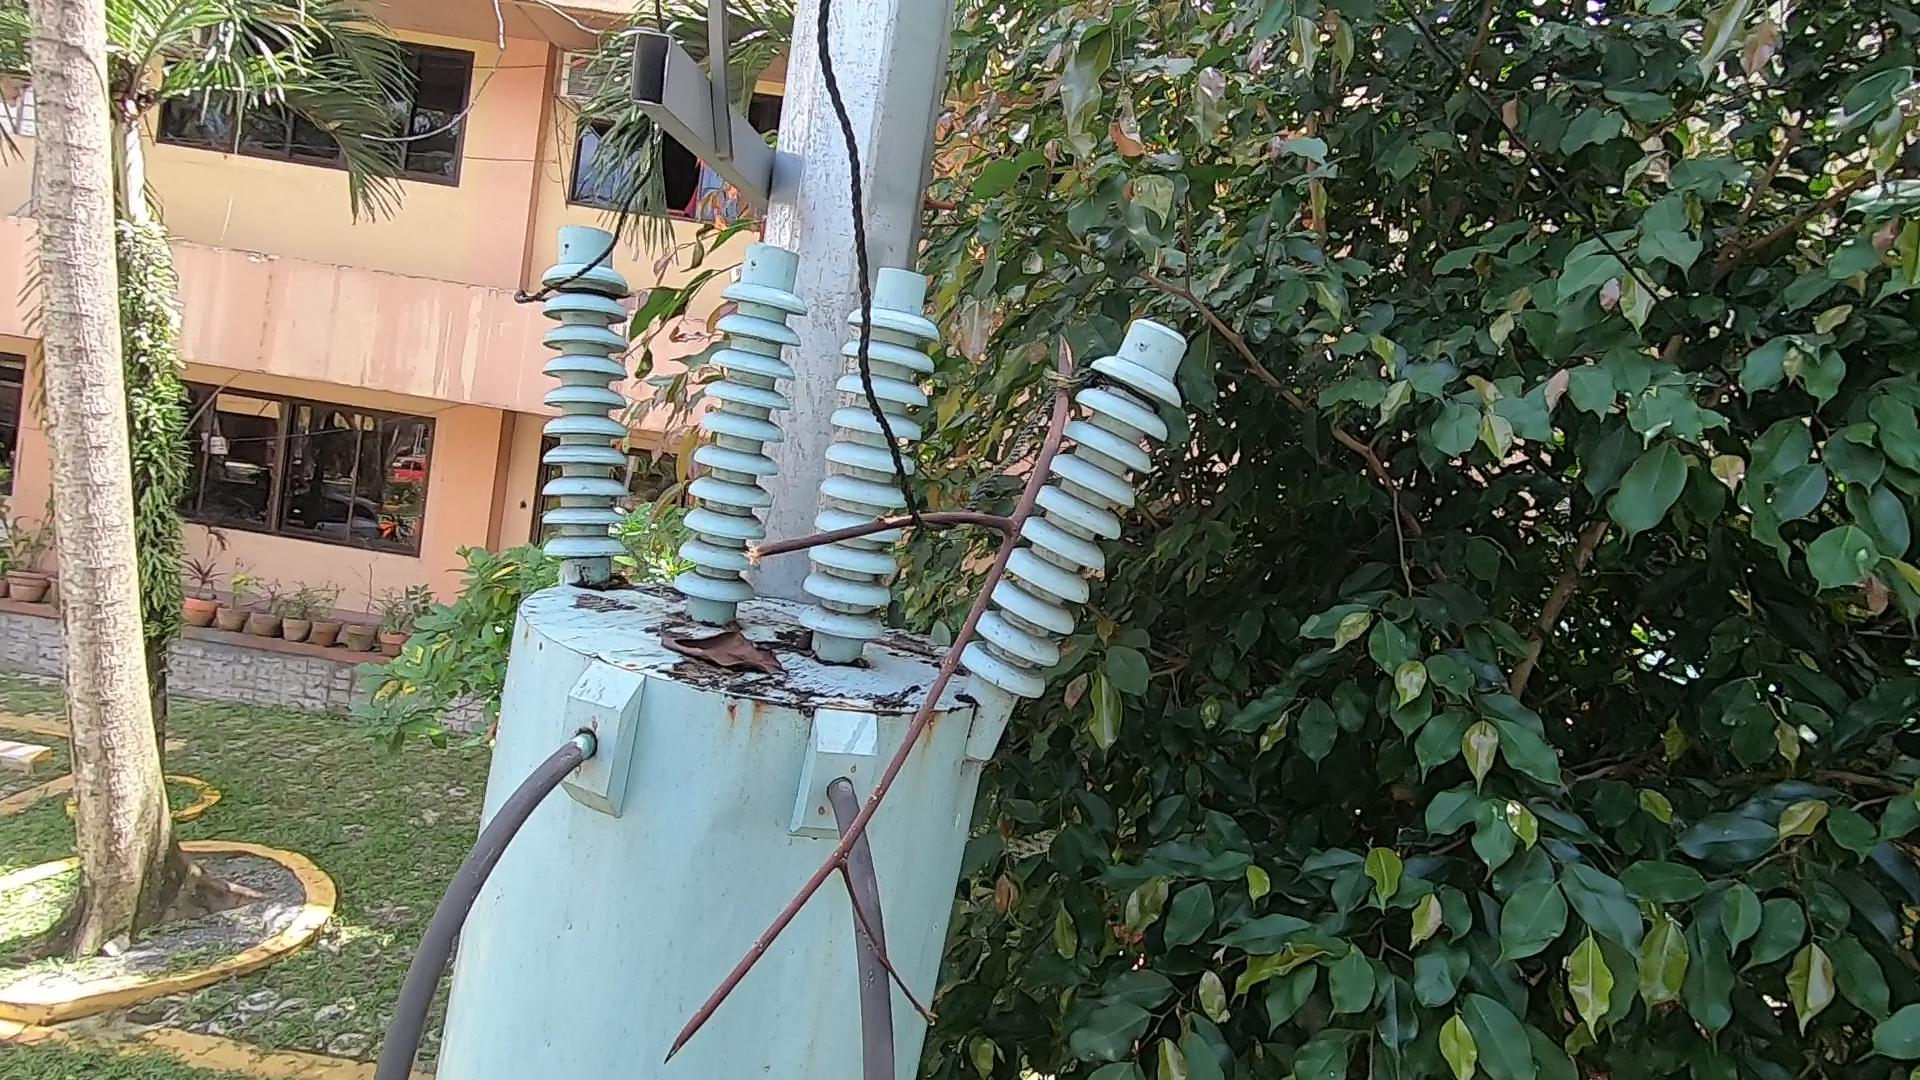leaf: (651, 603, 802, 696)
tree branch: (636, 324, 1092, 1062)
